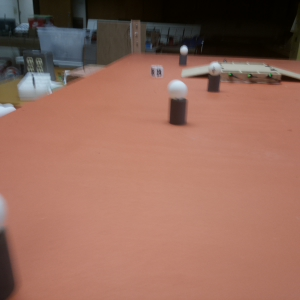obstacle: (1, 195, 15, 300), (168, 79, 189, 124), (209, 62, 221, 92), (179, 45, 189, 67)
side: (224, 72, 280, 85)
slope: (283, 67, 300, 88)
